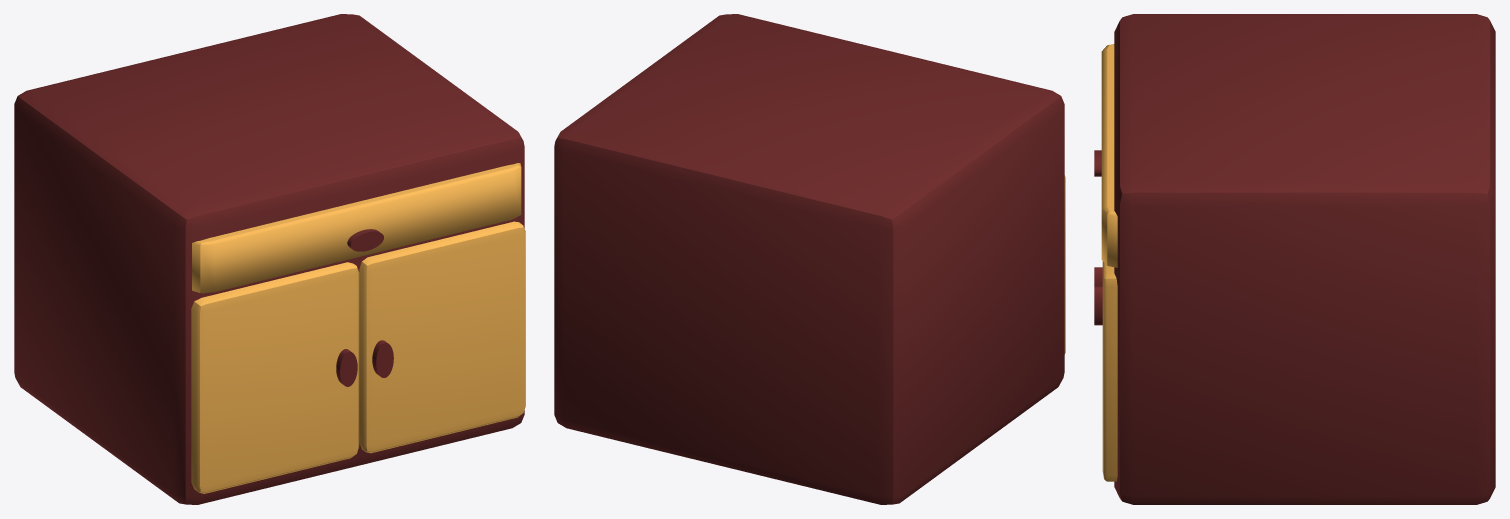
The model's file is szafka.gltf.
3 renders of one model, left to right at view 1: azimuth 30°, elevation 25°; view 2: azimuth 150°, elevation 25°; view 3: azimuth 270°, elevation 25°, orthographic. The views are drawn at different scales.
Visible parts, largest first — view 1: Cube.005, Cube.006, Cube.007, Cylinder.006, Cylinder.007; view 2: Cube.005; view 3: Cube.005, Cube.006, Cube.007, Cylinder.006.
Part boxes in pixels (x1,y1,x2,y2): Cube.005: [14, 14, 524, 504]; Cube.006: [191, 221, 525, 493]; Cube.007: [192, 163, 521, 293]; Cylinder.006: [336, 340, 393, 386]; Cylinder.007: [347, 229, 383, 251]; Cube.005: [554, 14, 1064, 504]; Cube.005: [1114, 14, 1495, 504]; Cube.006: [1102, 261, 1117, 481]; Cube.007: [1101, 44, 1117, 267]; Cylinder.006: [1094, 267, 1102, 325].
Bounding box in the file's own units: 3.62 × 2.94 × 3.33.
Materials: 1 (1 with a texture image).
